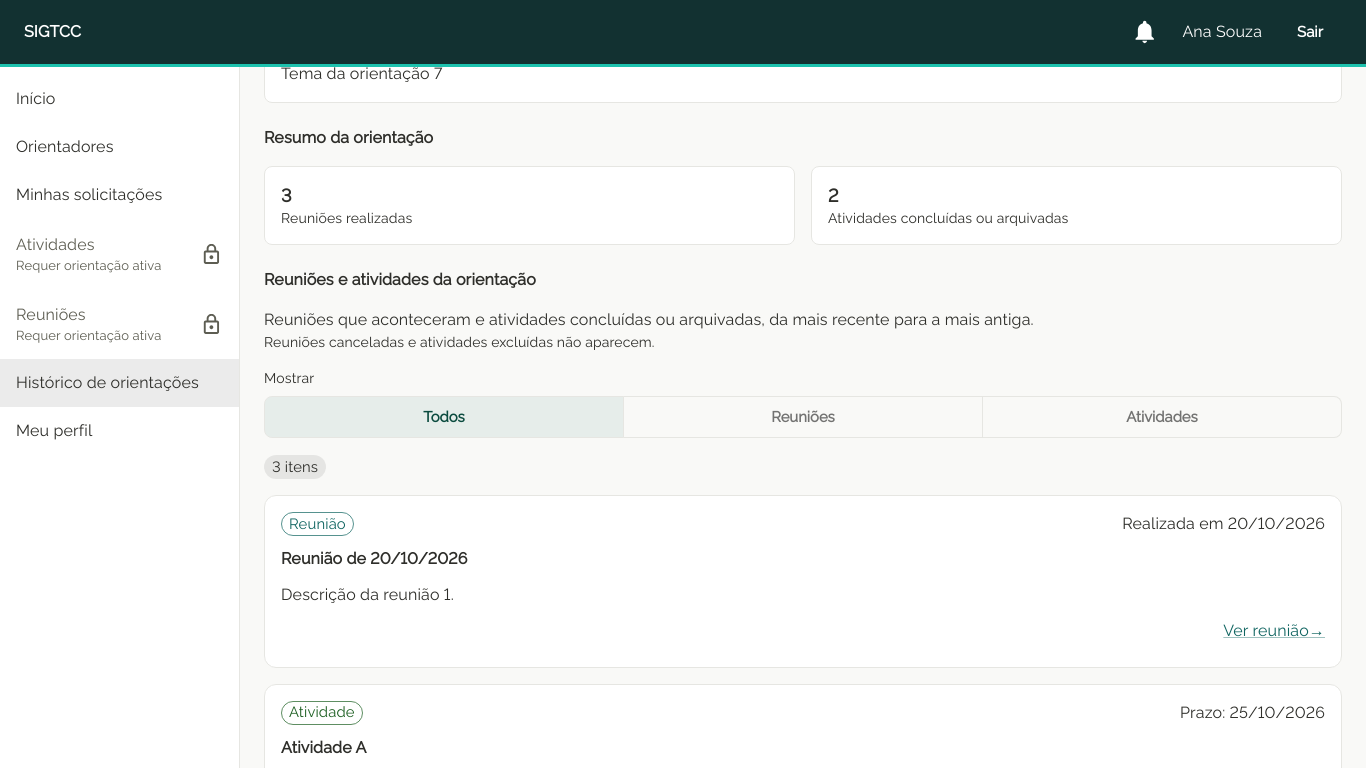
Test: AdvisingReportPage: o filtro "Mostrar" e a URL (RNF30) › "Reuniões" mostra só reuniões, com o título e o contador do filtro, e a URL guarda o tipo
(page scrolled)
Check: the text "3 itens" is shown, box [272,458,318,475]
Click the button "Reuniões".
click(803, 417)  # box [623,396,983,438]
(page scrolled)
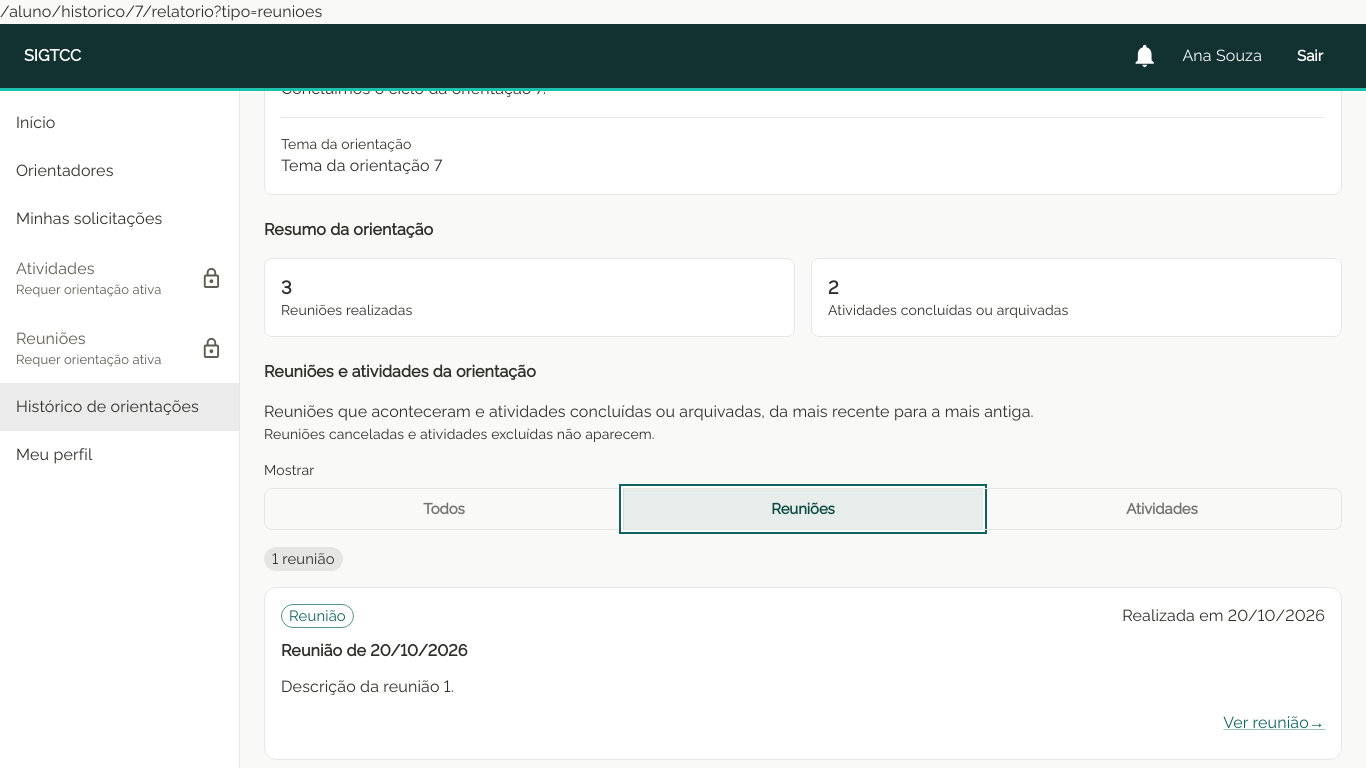
Check: the text "1 reunião" is shown, box [272,550,335,567]
